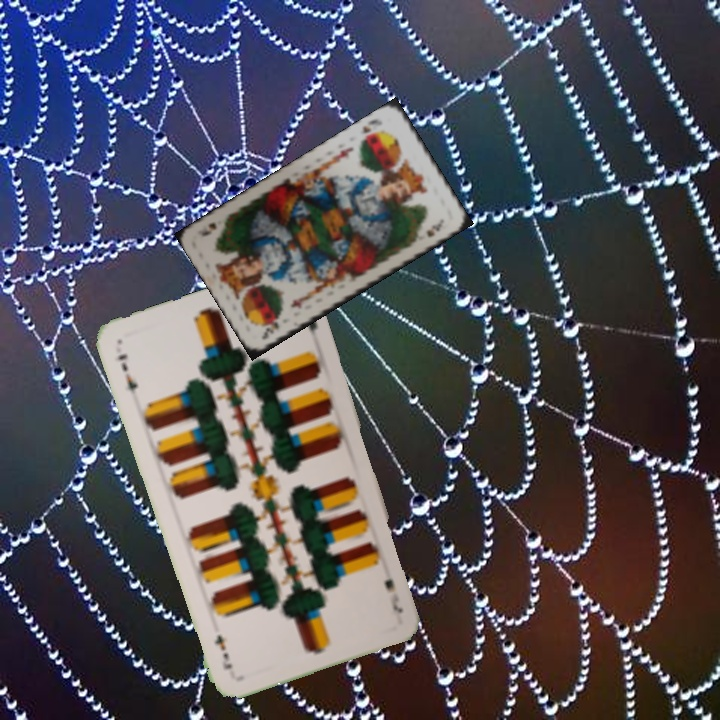E7: (113, 350, 141, 401), (380, 574, 406, 616)
SK: (358, 115, 386, 136), (257, 318, 281, 342)
